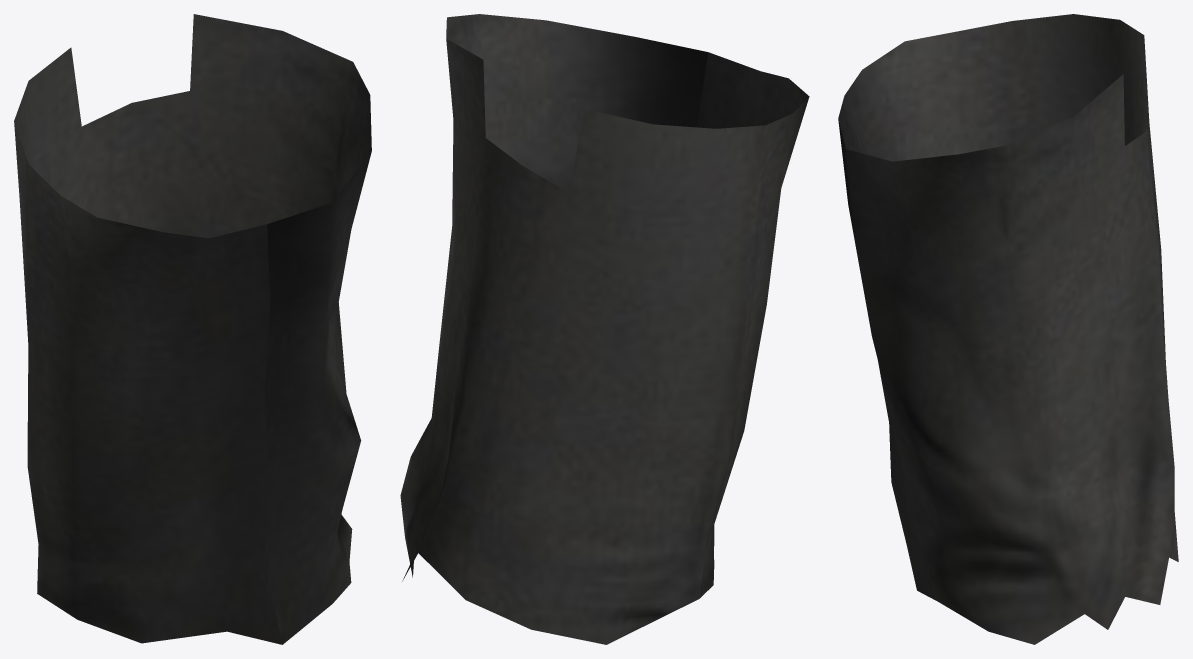
Rendered from Alumno2RightLeg.obj.
The picture shows the model from 3 angles, left to right: view 1: azimuth 30°, elevation 25°; view 2: azimuth 150°, elevation 25°; view 3: azimuth 270°, elevation 25°; orthographic projection. The views are drawn at different scales.
Visible parts, largest first — view 1: Alumno2RightLeg; view 2: Alumno2RightLeg; view 3: Alumno2RightLeg.
Part boxes in pixels (x1,y1,x2,y2): Alumno2RightLeg: (14, 14, 371, 644); Alumno2RightLeg: (400, 14, 809, 644); Alumno2RightLeg: (838, 14, 1178, 644).
Bounding box in the file's own units: 0.2966 × 0.4692 × 0.2757.
1 material, 1 textured.
